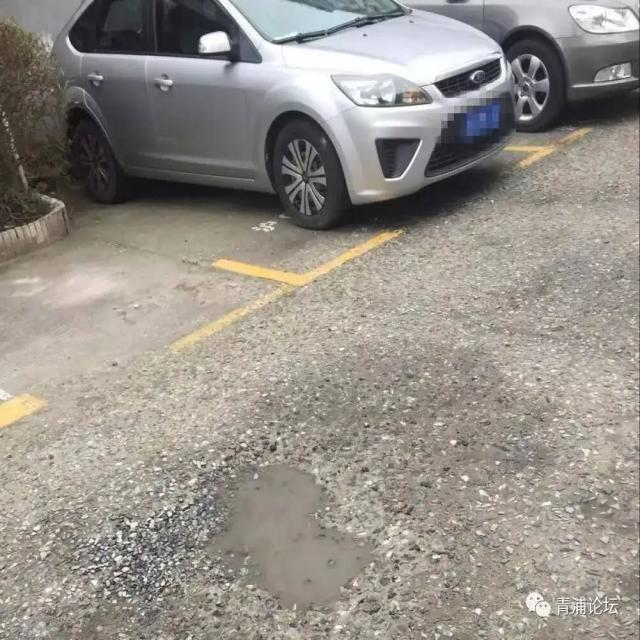Buraco: (195, 458, 391, 618)
